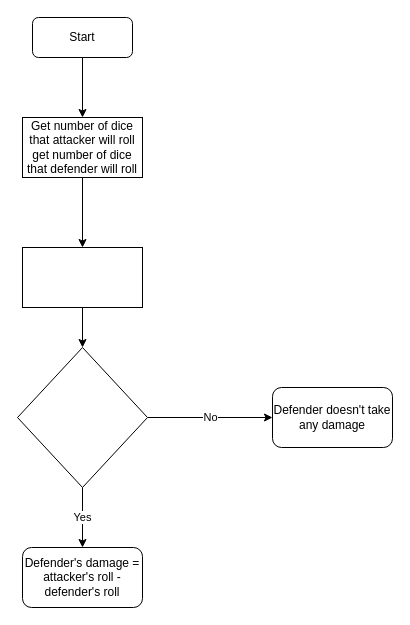
The diagram is 410 pixels wide and 625 high, and some of its shapes have lost their labels. The centre of each missing label's shape, as x and y in pixels:
"Attacker rolls strength damage, defender rolls physique" goes at (82,277).
"Is attacker's roll higher than defender's?" goes at (82,417).
